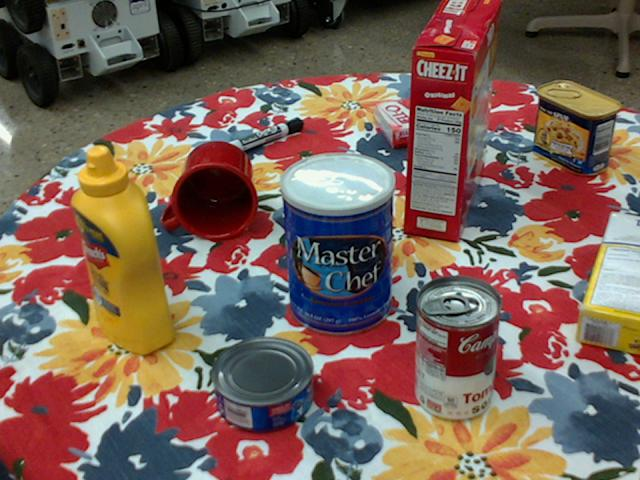cracker_box: (407, 0, 503, 241)
gelatin_box: (372, 95, 446, 148)
large_marker: (222, 115, 302, 156)
master_chef_can: (279, 152, 394, 337)
mug: (161, 140, 259, 242)
mustard_bottle: (70, 146, 175, 354)
potted_meat_can: (534, 79, 621, 174)
sugar_box: (576, 212, 639, 354)
tomato_soup_can: (414, 274, 501, 421)
tuna_fish_can: (207, 336, 310, 432)
